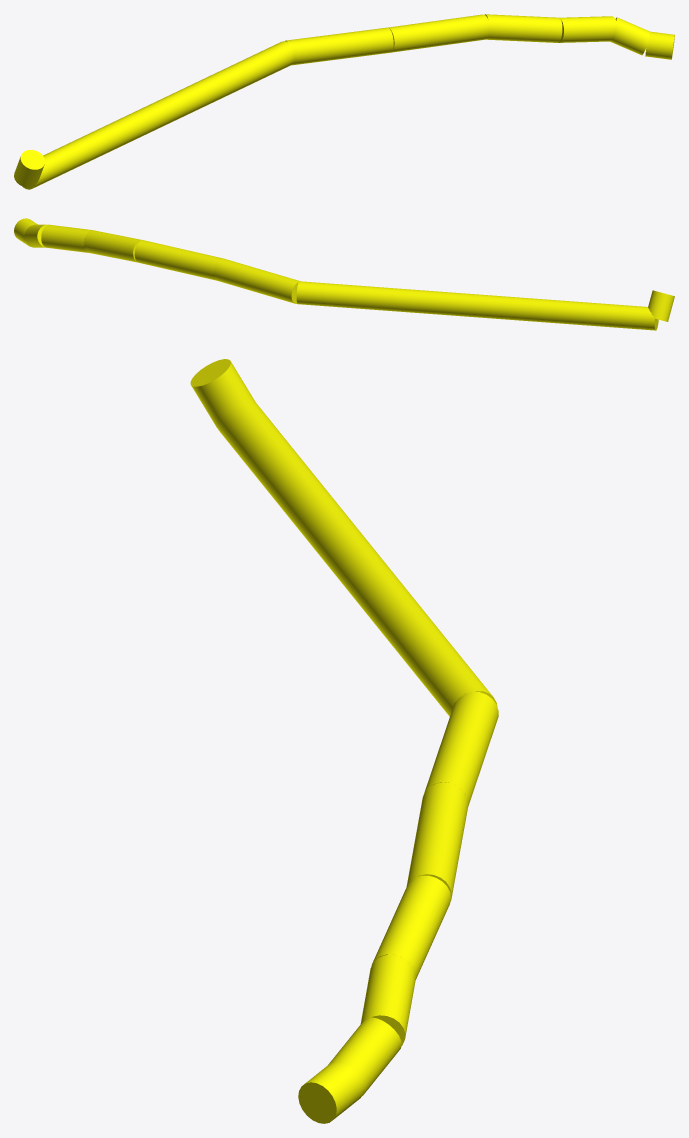
3 views of the same model, one above another, from view 1: azimuth 30°, elevation 25°; view 2: azimuth 150°, elevation 25°; view 3: azimuth 270°, elevation 25° (orthographic). The views are drawn at different scales.
Parts seen in each view (by area): view 1: Cylinder(Clone) (×8); view 2: Cylinder(Clone) (×8); view 3: Cylinder(Clone) (×8).
Part boxes in pixels (x1,y1,x2,y2): Cylinder(Clone) (×8): (14,14,674,189); Cylinder(Clone) (×8): (14,218,674,330); Cylinder(Clone) (×8): (190,359,498,1123).
Bounding box in the file's own units: 0.312 × 0.0388 × 0.0662.
